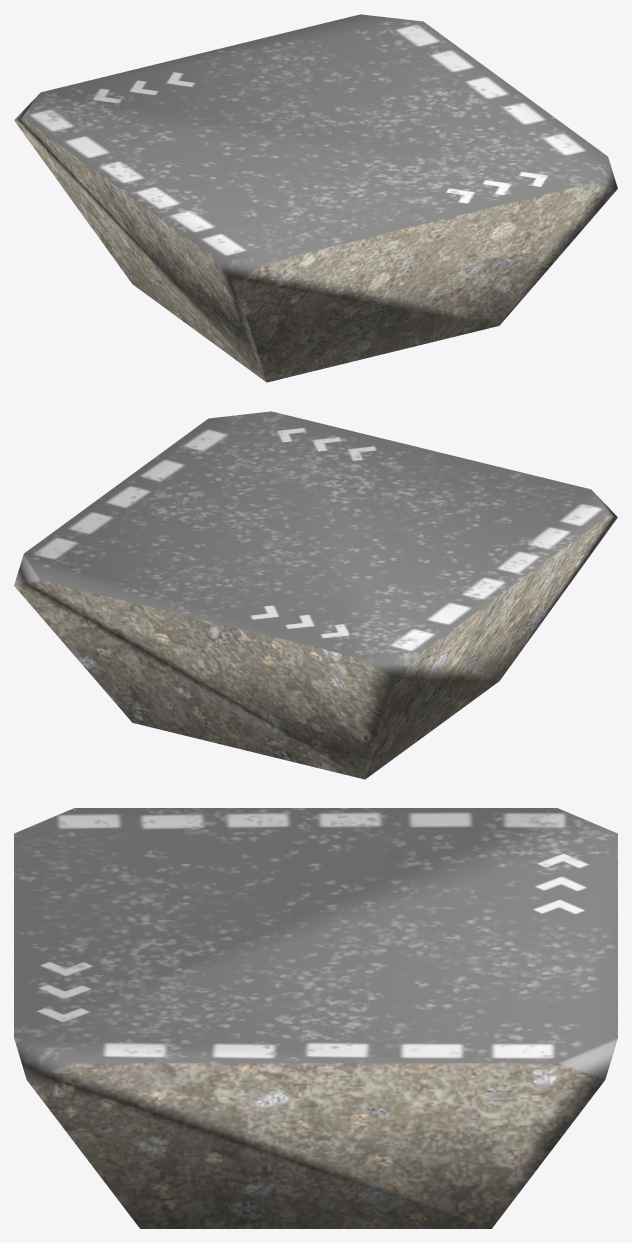
Rendered from asphalt_Field.fbx.
3 renders of one model, top to bottom at view 1: azimuth 30°, elevation 25°; view 2: azimuth 150°, elevation 25°; view 3: azimuth 270°, elevation 25°, orthographic. The views are drawn at different scales.
Parts seen in each view (by area): view 1: pCube1; view 2: pCube1; view 3: pCube1.
Part boxes in pixels (x1,y1,x2,y2): pCube1: (14,14,617,382); pCube1: (14,411,617,779); pCube1: (14,808,617,1228).
Bounding box in the file's own units: 50 × 20 × 50.
